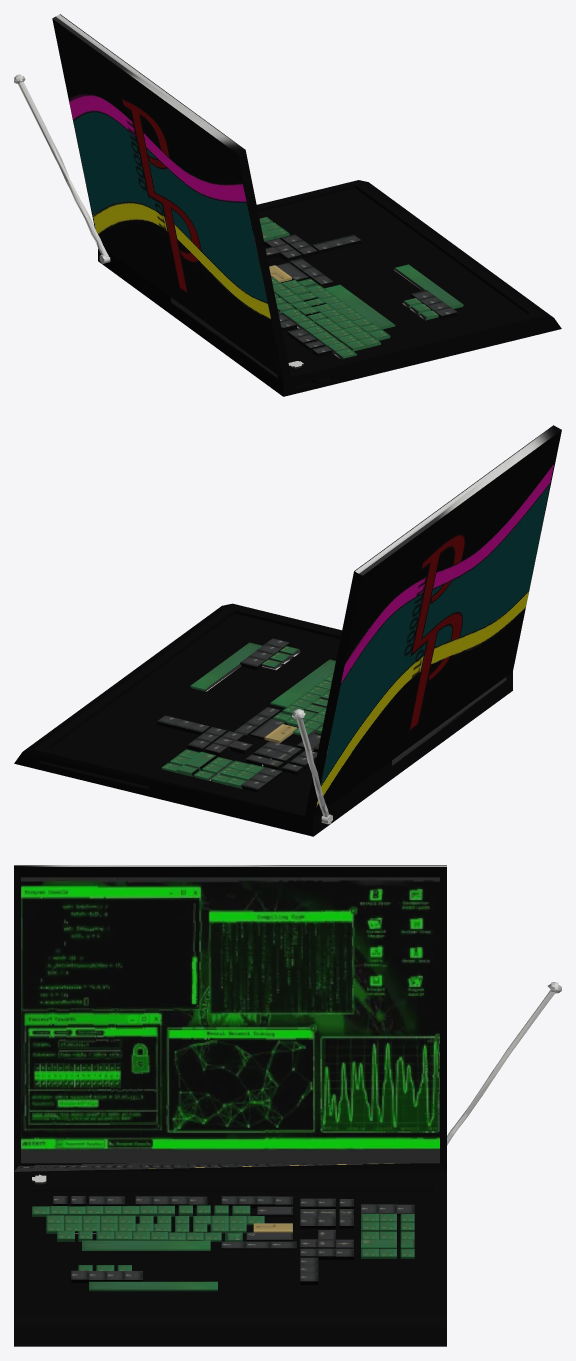
File: haccpc-transformed.glb
The picture shows the model from 3 angles, top to bottom: view 1: azimuth 30°, elevation 25°; view 2: azimuth 150°, elevation 25°; view 3: azimuth 270°, elevation 25°; orthographic projection. The views are drawn at different scales.
Visible parts, largest first — view 1: Laptop; view 2: Laptop; view 3: Laptop.
Boxes of the visible parts, x1,y1,x2,y2 form: Laptop: (14,14,561,396); Laptop: (14,425,561,836); Laptop: (14,865,561,1346).
Bounding box in the file's own units: 2306 × 1741 × 2891.
1 material, 1 textured.
